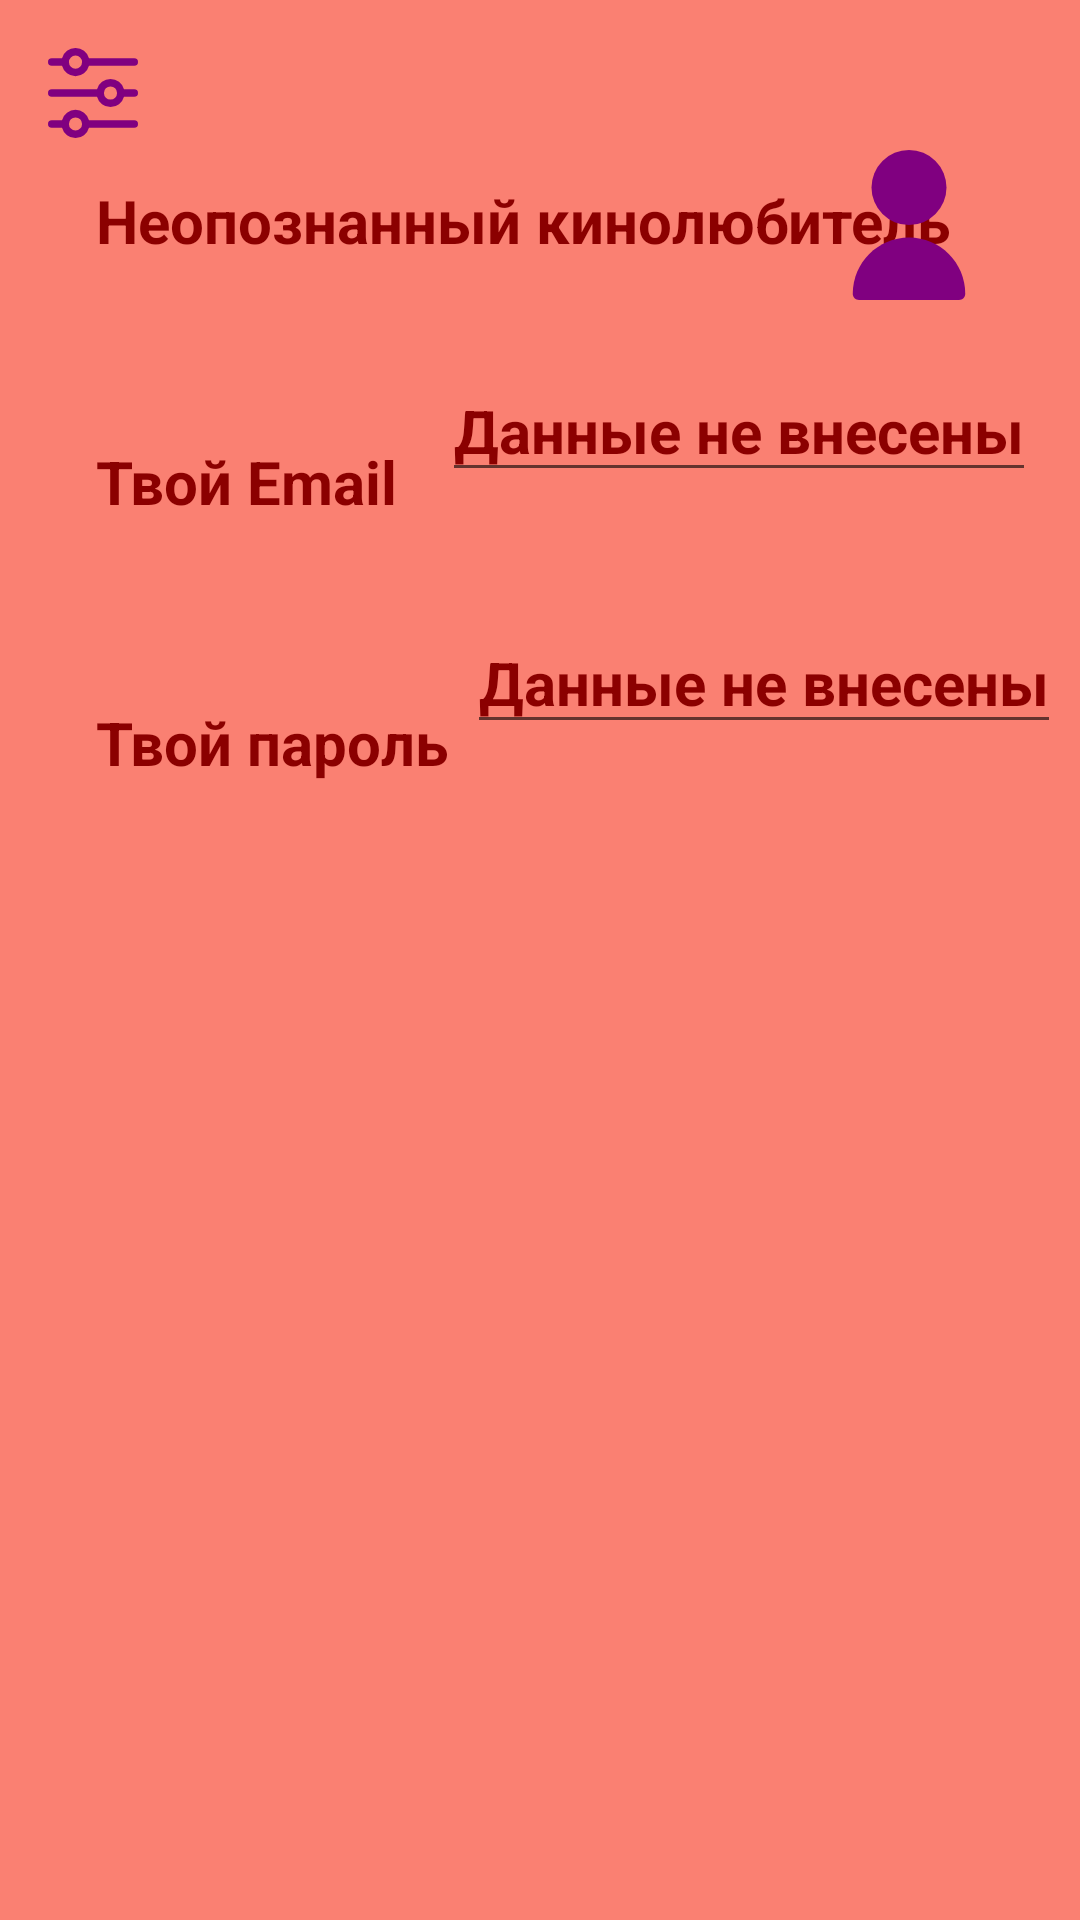

Screen size 1080 x 1920. Icon name, then its center in pixels as [x,y]:
free font settings sliders: [93,93]
